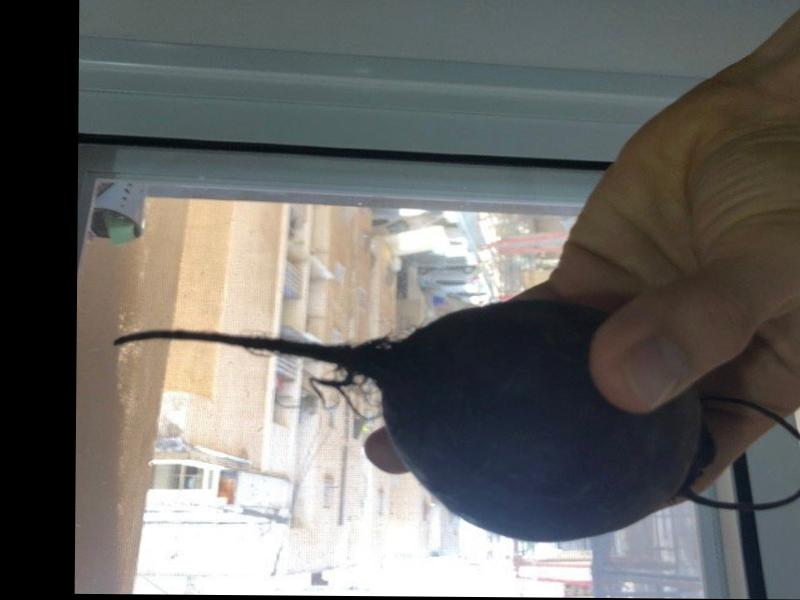Beet: (109, 297, 800, 544)
